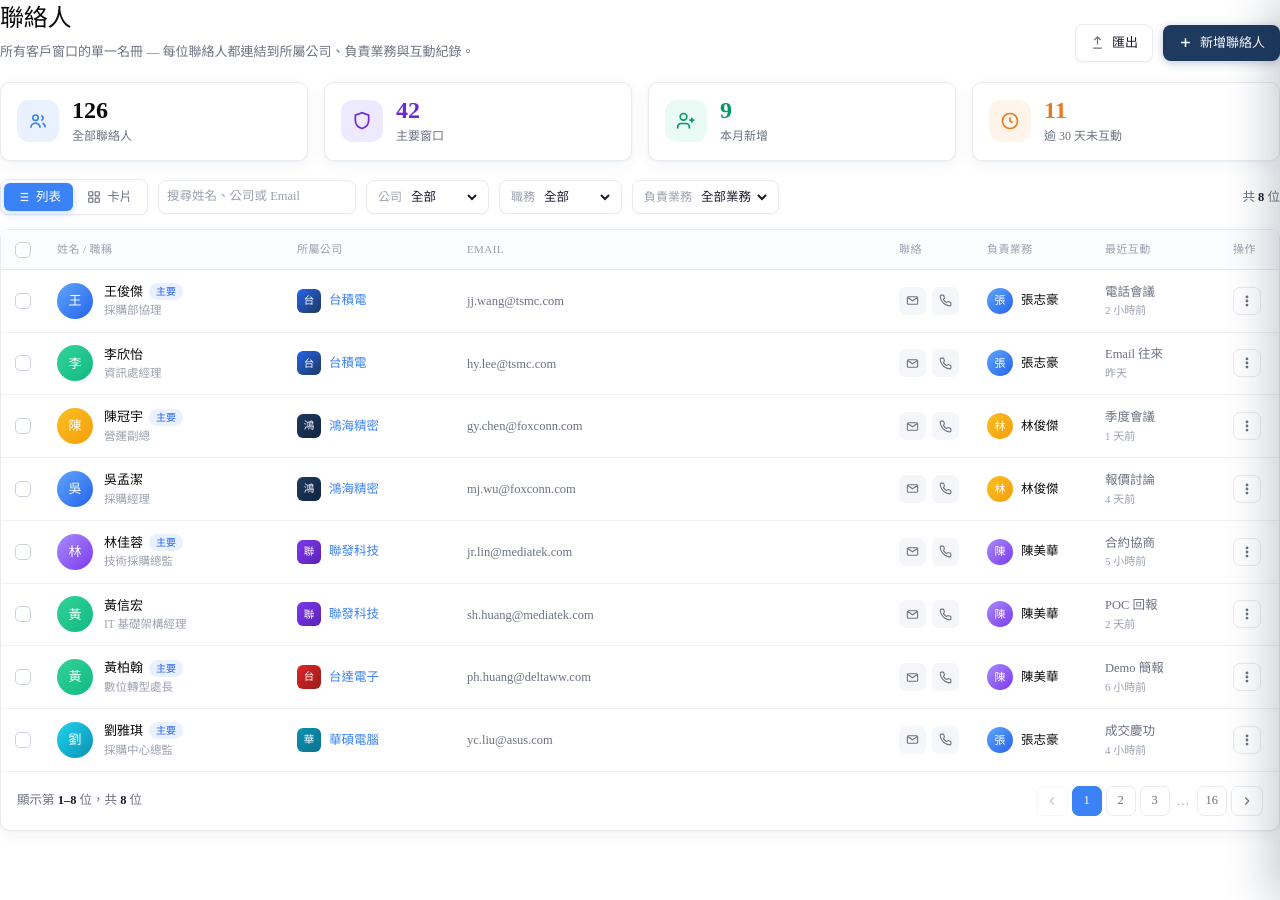
Test case: Contacts 新增 › 姓名空白時按儲存顯示錯誤且不新增
This screenshot has width=1280, height=900.
Click the button "新增聯絡人" at [1222, 43], box [1163, 25, 1279, 60]
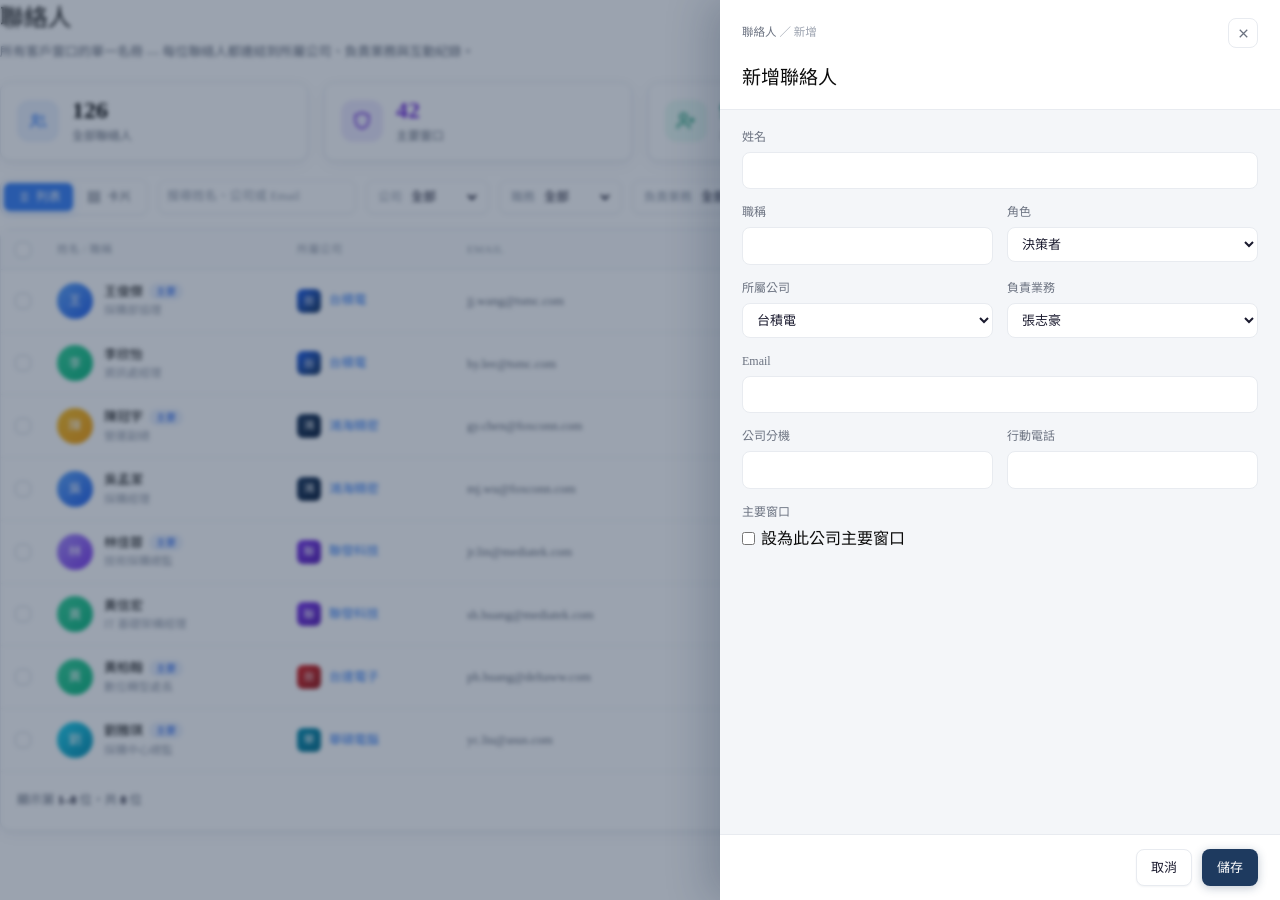
Click the button "儲存" at [1230, 867], box [1202, 848, 1258, 886]
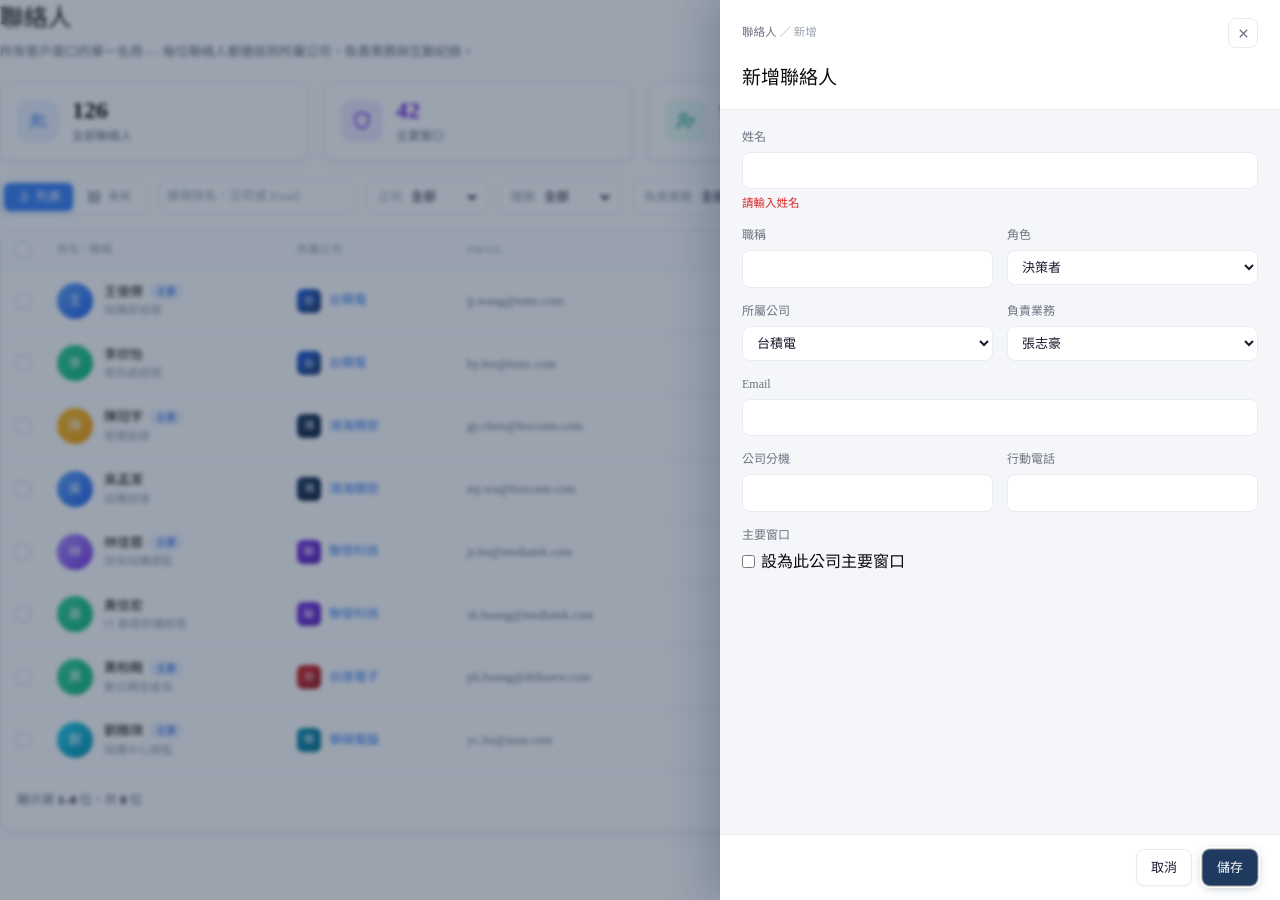
Check: the text "請輸入姓名" is shown, box [742, 197, 800, 209]
